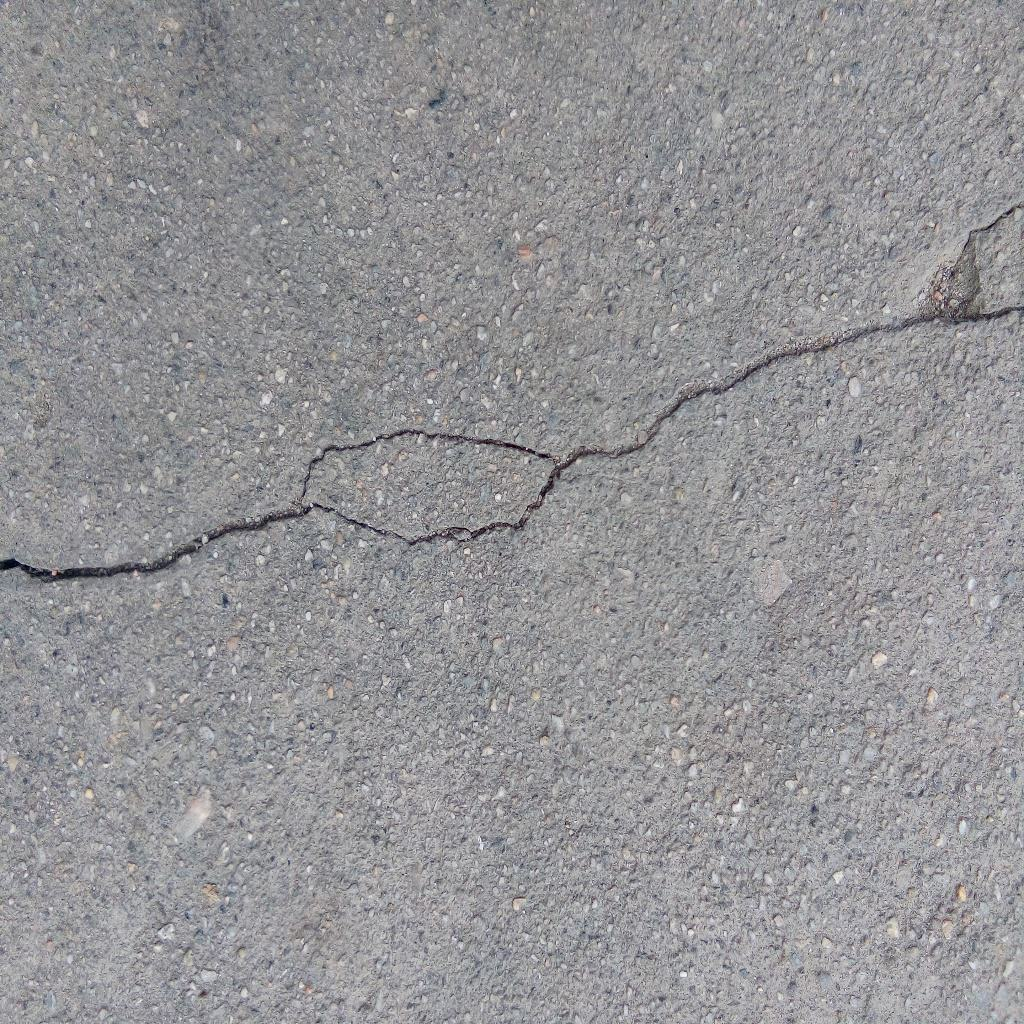Crack: (1, 203, 1024, 582)
